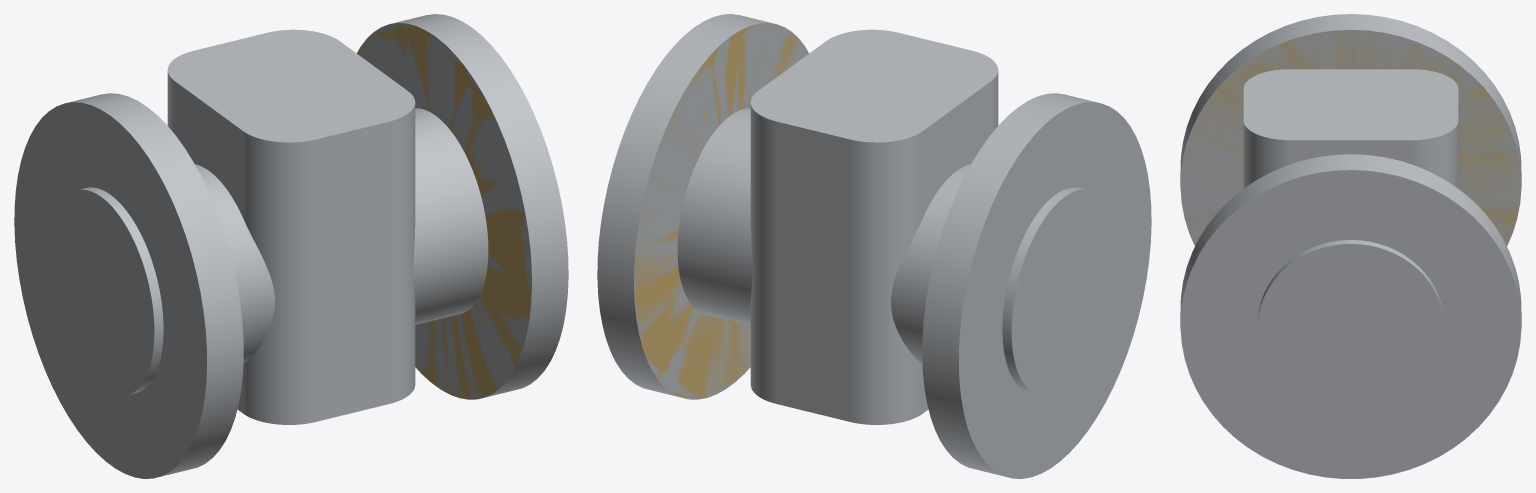
The model's file is step_03.glb.
The picture shows the model from 3 angles, left to right: view 1: azimuth 30°, elevation 25°; view 2: azimuth 150°, elevation 25°; view 3: azimuth 270°, elevation 25°; orthographic projection. The views are drawn at different scales.
Parts seen in each view (by area): view 1: part__valve body, added__valve body; view 2: part__valve body, added__valve body; view 3: part__valve body, added__valve body.
Boxes of the visible parts, left/top/right/bottom form: part__valve body: left=14, top=14, right=568, bottom=478; added__valve body: left=357, top=23, right=531, bottom=399; part__valve body: left=597, top=14, right=1151, bottom=478; added__valve body: left=634, top=23, right=808, bottom=399; part__valve body: left=1180, top=14, right=1521, bottom=478; added__valve body: left=1180, top=29, right=1521, bottom=245.
Bounding box in the file's own units: 166 × 146 × 146.
